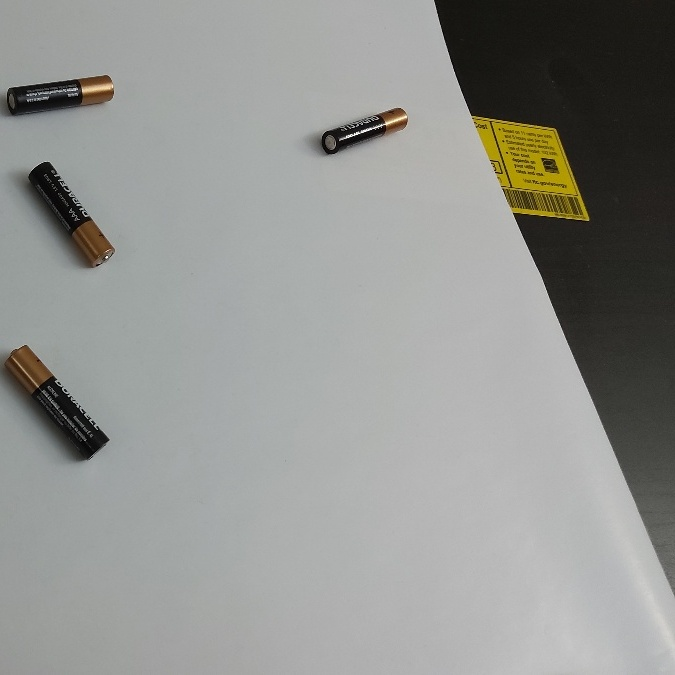battery: (17, 154, 123, 279), (308, 102, 412, 157)
